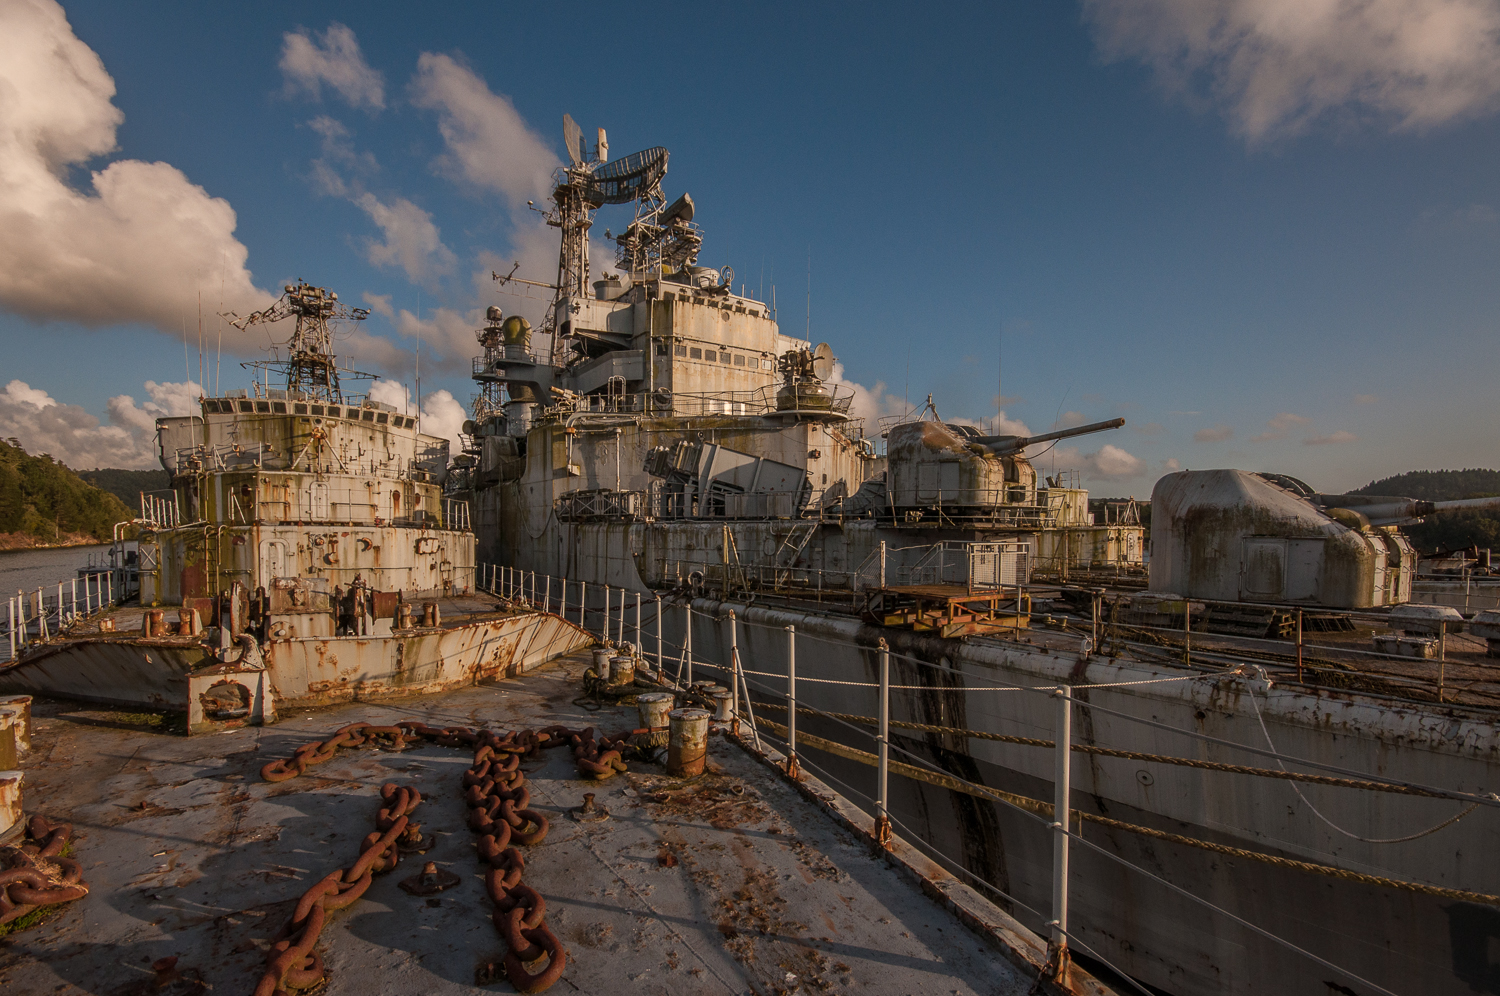rust: (430, 728, 590, 992), (244, 779, 416, 993), (882, 585, 1059, 651), (1, 805, 106, 909)
